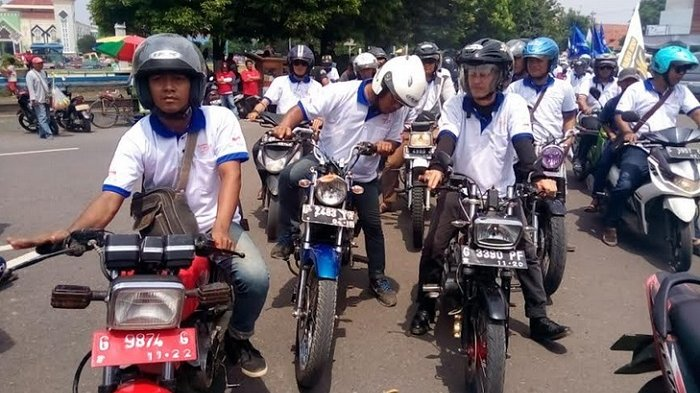plate: (89, 326, 197, 369), (460, 241, 528, 270), (301, 203, 357, 231)
